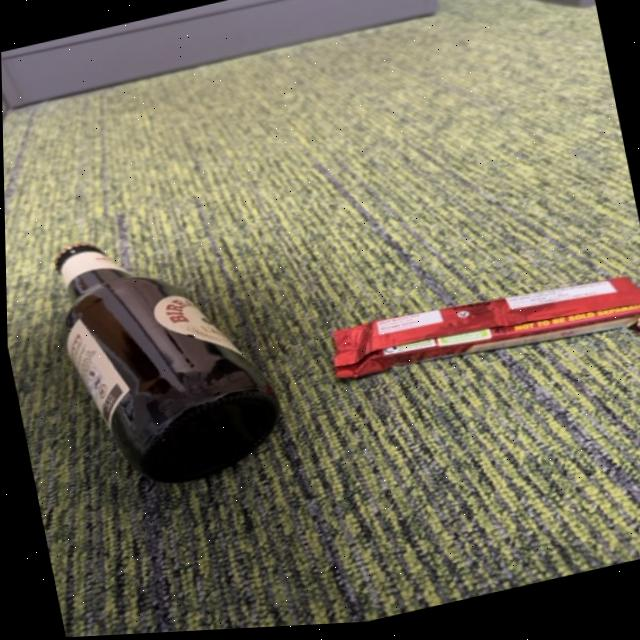beer: (21, 196, 298, 513)
chocolate: (315, 258, 640, 409)
